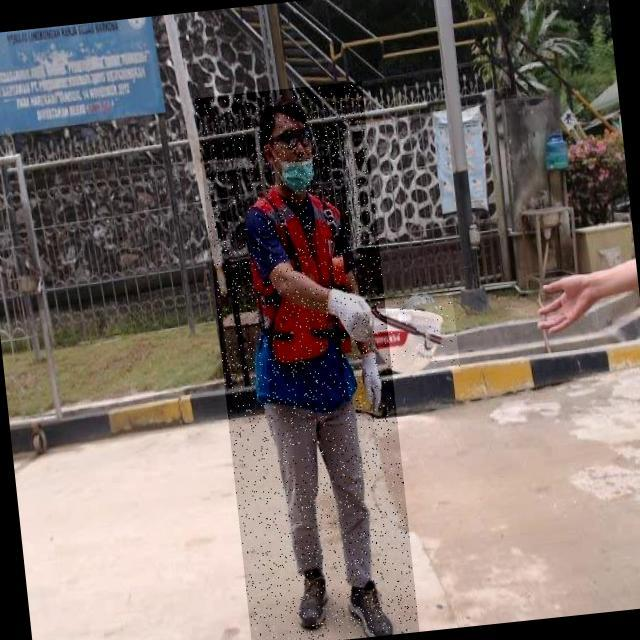Helmet: (365, 292, 460, 381)
Human: (194, 80, 419, 640)
Safety Boot: (342, 579, 401, 639), (292, 565, 337, 635)
